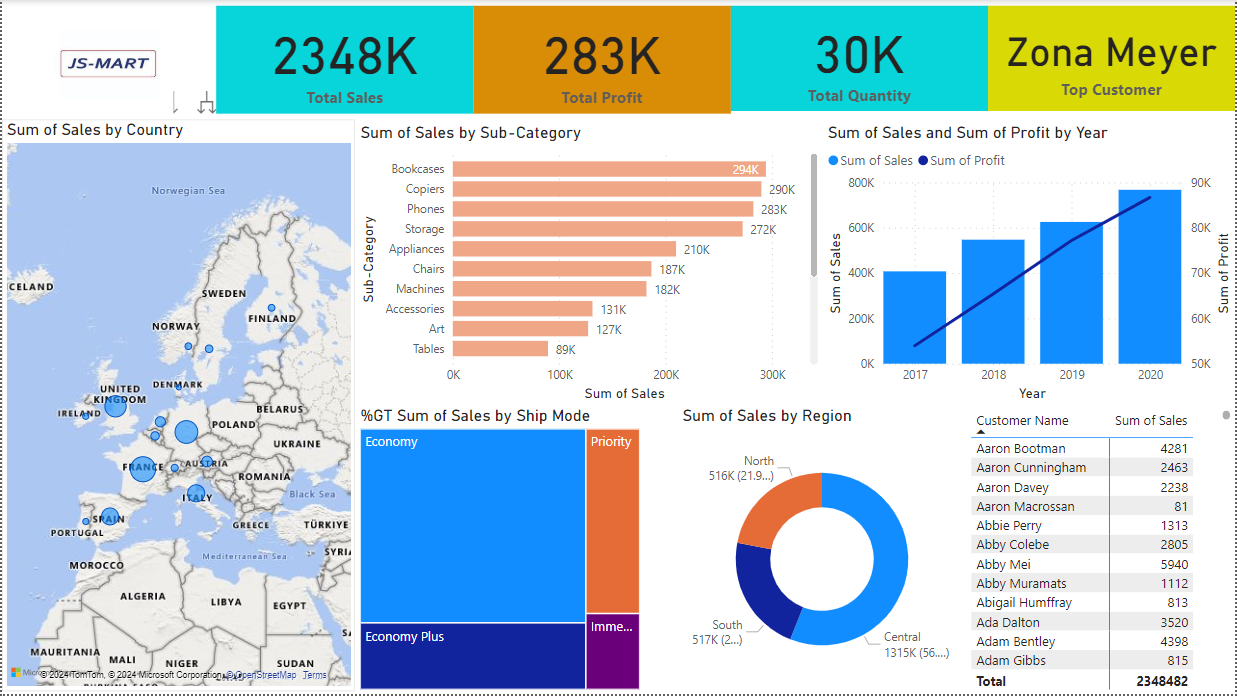

Layout of this report page (visuals, bound fields, positions):
{"tool":"powerbi","page":{"name":"Page 1","canvas":[1280,720],"ordinal":0},"visuals":[{"type":"pivotTable","fields":{"Values":["Order Breakdown.Sales"],"Rows":["List of Orders.Customer Name"]},"box":[1001.2,420.8,279,299.9],"z":0},{"type":"donutChart","fields":{"Y":["Order Breakdown.Sales"],"Category":["List of Orders.Region"]},"box":[701.3,420.8,299.9,299.9],"z":1000},{"type":"treemap","fields":{"Values":["Order Breakdown.Sales"],"Group":["List of Orders.Ship Mode"]},"box":[367,420.8,299.9,299.9],"z":2000},{"type":"lineStackedColumnComboChart","fields":{"Category":["List of Orders.Ship Date.Variation.Date Hierarchy.Year","List of Orders.Ship Date.Variation.Date Hierarchy.Quarter","List of Orders.Ship Date.Variation.Date Hierarchy.Month","List of Orders.Ship Date.Variation.Date Hierarchy.Day"],"Y":["Order Breakdown.Sales"],"Y2":["Order Breakdown.Profit"]},"box":[852,126.8,428.2,293.9],"z":3000},{"type":"clusteredBarChart","fields":{"Category":["Order Breakdown.Sub-Category"],"Y":["Order Breakdown.Sales"]},"box":[367,126.8,484.9,293.9],"z":4000},{"type":"map","fields":{"Category":["List of Orders.Country","List of Orders.State","List of Orders.City"],"Size":["Order Breakdown.Sales"]},"box":[0,123.8,367,593.8],"z":5000},{"type":"card","fields":{"Values":["Order Breakdown.Sales"]},"box":[222.3,6,267.1,111.9],"z":6000},{"type":"card","fields":{"Values":["Order Breakdown.Profit"]},"box":[489.4,6,267.1,111.9],"z":7000},{"type":"card","fields":{"Values":["Order Breakdown.Quantity"]},"box":[756.5,6,267.1,108.9],"z":8000},{"type":"card","fields":{"Values":["List of Orders.Customer Name"]},"box":[1023.5,6,256.6,108.9],"z":9000},{"type":"image","box":[0,0,222.3,126.8],"z":10000}]}

Visuals, with their boxes in screenshot pixels (x1, y1, x2, y2), scaled from the page's 1280x720 canvas onto the 1237x697 screenshot:
pivotTable - Order Breakdown.Sales x List of Orders.Customer Name: [x1=968, y1=407, x2=1236, y2=696]
donutChart - Order Breakdown.Sales x List of Orders.Region: [x1=678, y1=407, x2=968, y2=696]
treemap - Order Breakdown.Sales x List of Orders.Ship Mode: [x1=355, y1=407, x2=644, y2=696]
lineStackedColumnComboChart - List of Orders.Ship Date.Variation.Date Hierarchy.Year x List of Orders.Ship Date.Variation.Date Hierarchy.Quarter: [x1=823, y1=123, x2=1236, y2=407]
clusteredBarChart - Order Breakdown.Sub-Category x Order Breakdown.Sales: [x1=355, y1=123, x2=823, y2=407]
map - List of Orders.Country x List of Orders.State: [x1=0, y1=120, x2=355, y2=695]
card - Order Breakdown.Sales: [x1=215, y1=6, x2=473, y2=114]
card - Order Breakdown.Profit: [x1=473, y1=6, x2=731, y2=114]
card - Order Breakdown.Quantity: [x1=731, y1=6, x2=989, y2=111]
card - List of Orders.Customer Name: [x1=989, y1=6, x2=1236, y2=111]
image: [x1=0, y1=0, x2=215, y2=123]
